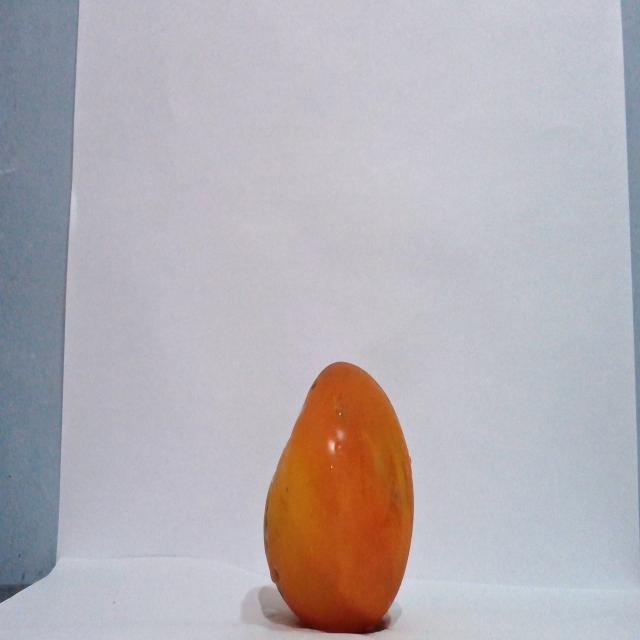Red: (261, 359, 415, 633)
